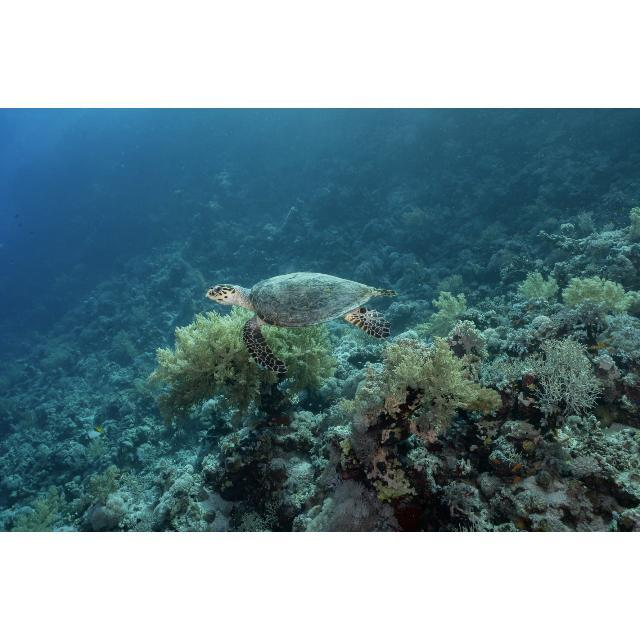penguin: (298, 260, 365, 373)
